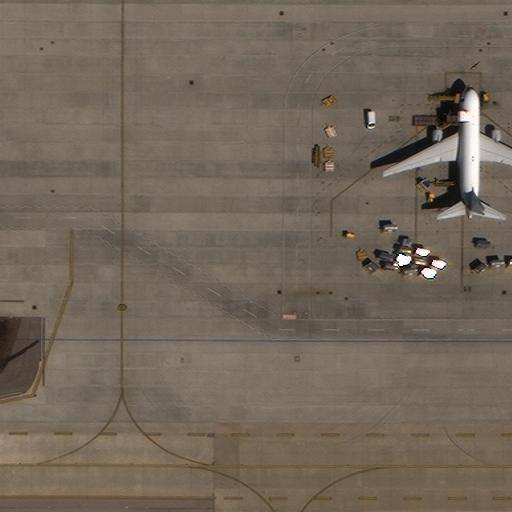Large Civil Transport: (383, 83, 512, 218)
